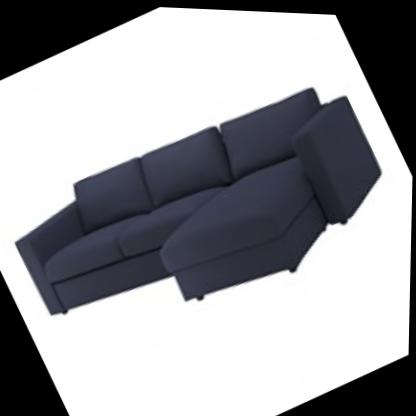Sofa: (0, 22, 416, 406)
